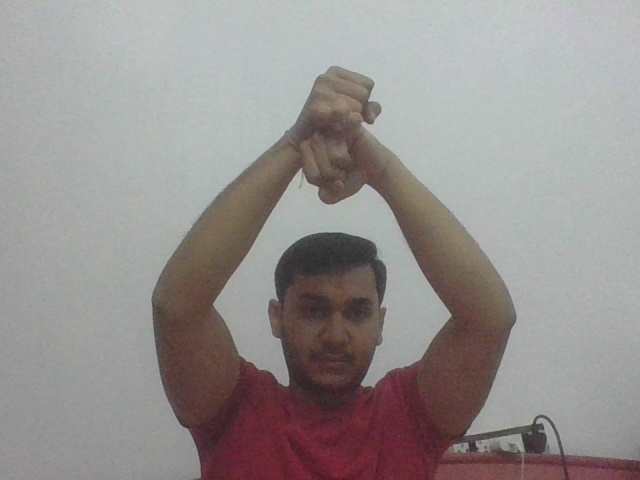S: (293, 64, 383, 206)
